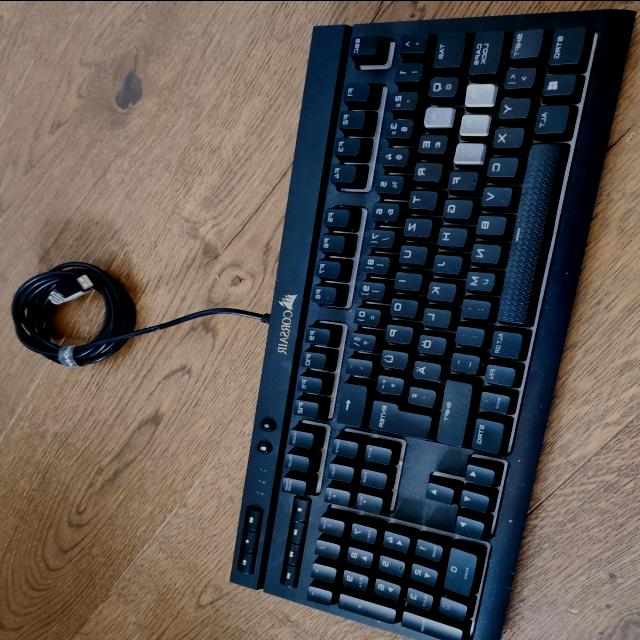0: (351, 304, 379, 325)
1: (391, 59, 421, 80)
2: (386, 88, 418, 109)
3: (380, 115, 414, 138)
4: (374, 144, 408, 166)
5: (372, 171, 404, 193)
6: (370, 200, 398, 221)
7: (364, 227, 394, 247)
8: (362, 253, 388, 273)
9: (356, 279, 384, 299)
a: (463, 81, 496, 105)
accent: (340, 356, 370, 376)
ae: (410, 359, 440, 380)
alt-left: (531, 101, 569, 133)
altgr-right: (488, 327, 522, 359)
b: (473, 213, 505, 235)
c: (484, 155, 516, 177)
caret: (396, 30, 426, 52)
comma: (458, 297, 489, 318)
d: (453, 142, 485, 163)
del: (334, 380, 365, 424)
e: (415, 132, 446, 154)
enter: (366, 397, 431, 437)
f: (445, 168, 477, 189)
g: (441, 197, 471, 218)
h: (435, 224, 466, 246)
hash: (406, 384, 434, 406)
i: (392, 270, 420, 290)
j: (430, 253, 460, 273)
k: (425, 280, 455, 301)
keyboard: (224, 6, 640, 640)
l: (420, 306, 450, 326)
less: (501, 65, 534, 88)
m: (463, 269, 494, 291)
minus: (448, 350, 478, 373)
n: (469, 241, 500, 263)
o: (387, 295, 417, 316)
oe: (415, 333, 445, 354)
p: (383, 322, 411, 342)
plus: (373, 373, 403, 394)
point: (453, 323, 483, 345)
q: (426, 73, 456, 96)
r: (411, 159, 442, 181)
s: (457, 112, 489, 135)
shift-left: (508, 26, 542, 57)
shift-lock: (467, 28, 503, 73)
shift-right: (436, 378, 471, 445)
space: (496, 139, 568, 326)
ss: (345, 330, 375, 351)
strg-left: (545, 22, 586, 64)
strg-right: (469, 416, 503, 453)
t: (406, 188, 436, 208)
tab: (430, 29, 463, 66)
u: (396, 243, 426, 263)
ue: (377, 347, 407, 368)
v: (479, 184, 511, 206)
w: (422, 105, 453, 127)
x: (489, 125, 523, 147)
y: (497, 95, 530, 117)
z: (401, 216, 431, 236)
